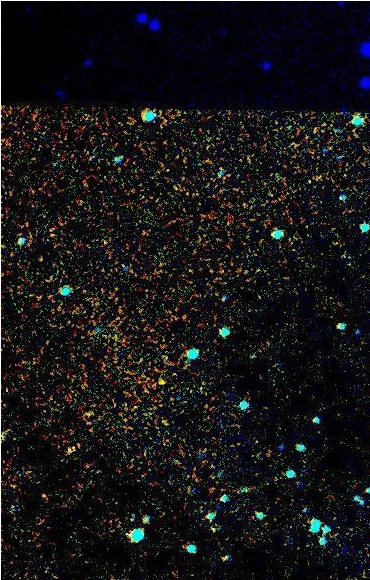star: (146, 363, 176, 393)
